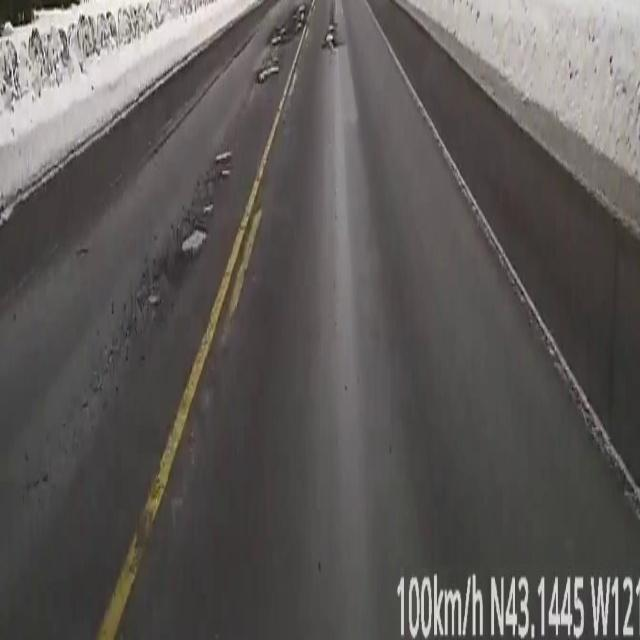pothole: (270, 7, 304, 45), (182, 228, 205, 252), (258, 60, 278, 84), (323, 20, 338, 50), (214, 150, 230, 174)
